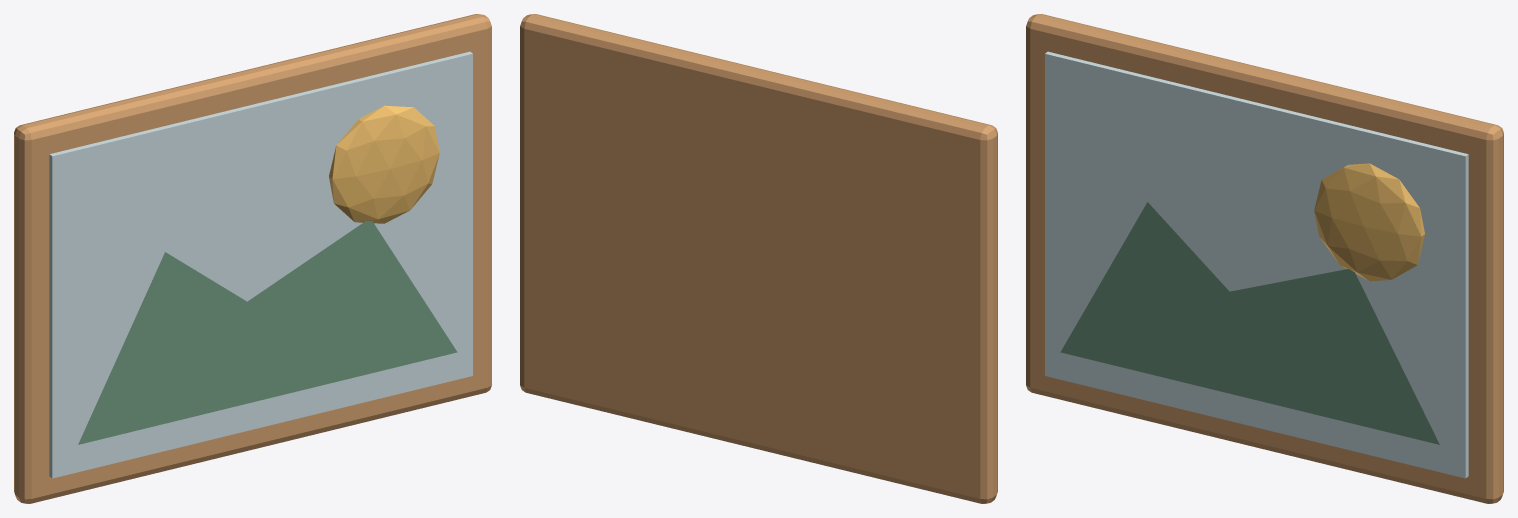
Rendered from bedroom_wall_art.glb.
3 renders of one model, left to right at view 1: azimuth 30°, elevation 25°; view 2: azimuth 150°, elevation 25°; view 3: azimuth 330°, elevation 25°, orthographic.
Parts seen in each view (by area): view 1: bedroom_wall_art_Mesh; view 2: bedroom_wall_art_Mesh; view 3: bedroom_wall_art_Mesh.
Boxes of the visible parts, x1,y1,x2,y2 form: bedroom_wall_art_Mesh: [14, 14, 491, 503]; bedroom_wall_art_Mesh: [520, 14, 997, 503]; bedroom_wall_art_Mesh: [1026, 14, 1503, 503].
Size of the model in its own units: 0.92 by 0.7 by 0.0875.
